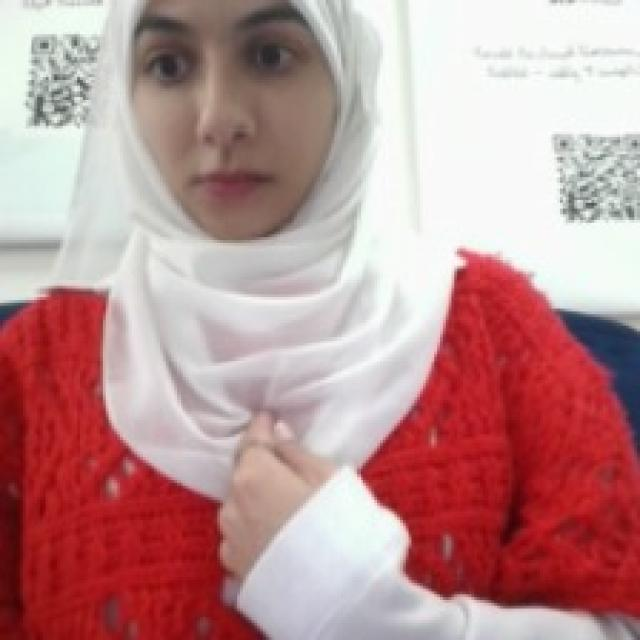me: (208, 400, 349, 585)
